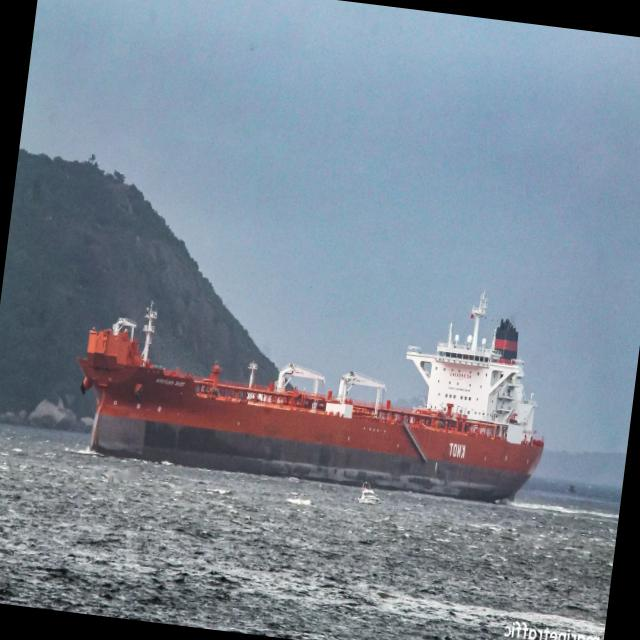Tanker: (77, 295, 544, 502)
